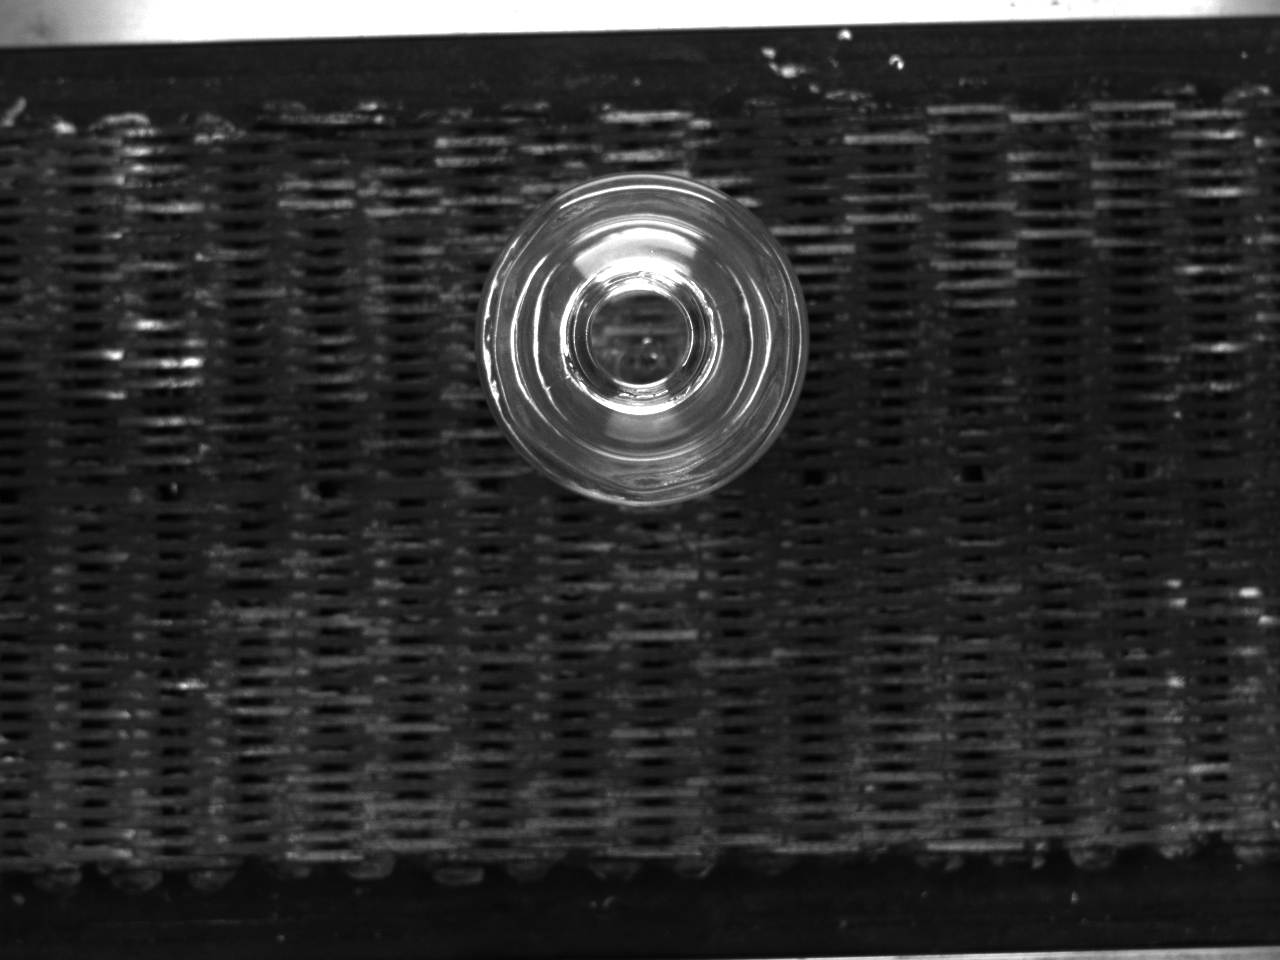bottleneck: (565, 259, 724, 411)
